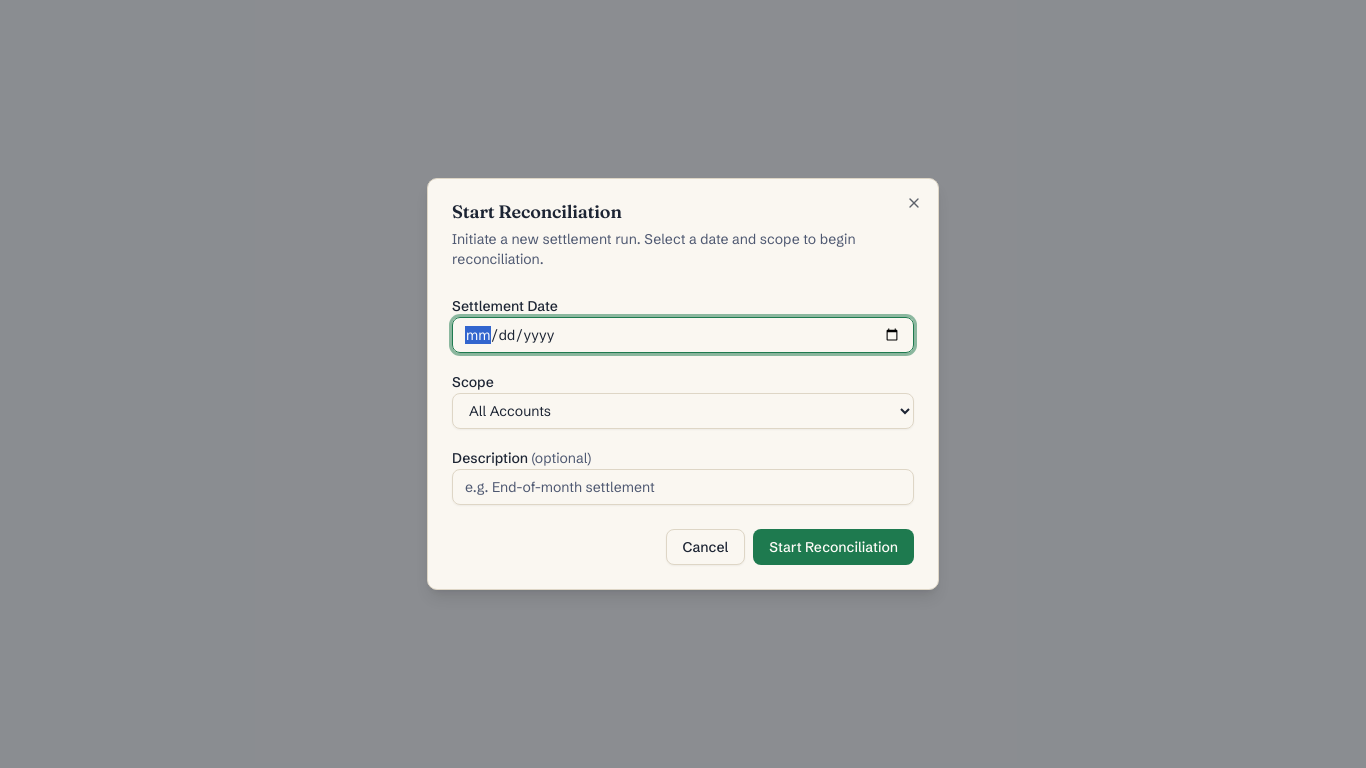
Test: InitiateReconciliationDialog › scope selection and conditional account ID › shows account ID input when scope changes to SELECTED_ACCOUNTS
Select "Selected Accounts" in the dropdown labelled "Scope": (683, 411) [452,393,914,429]
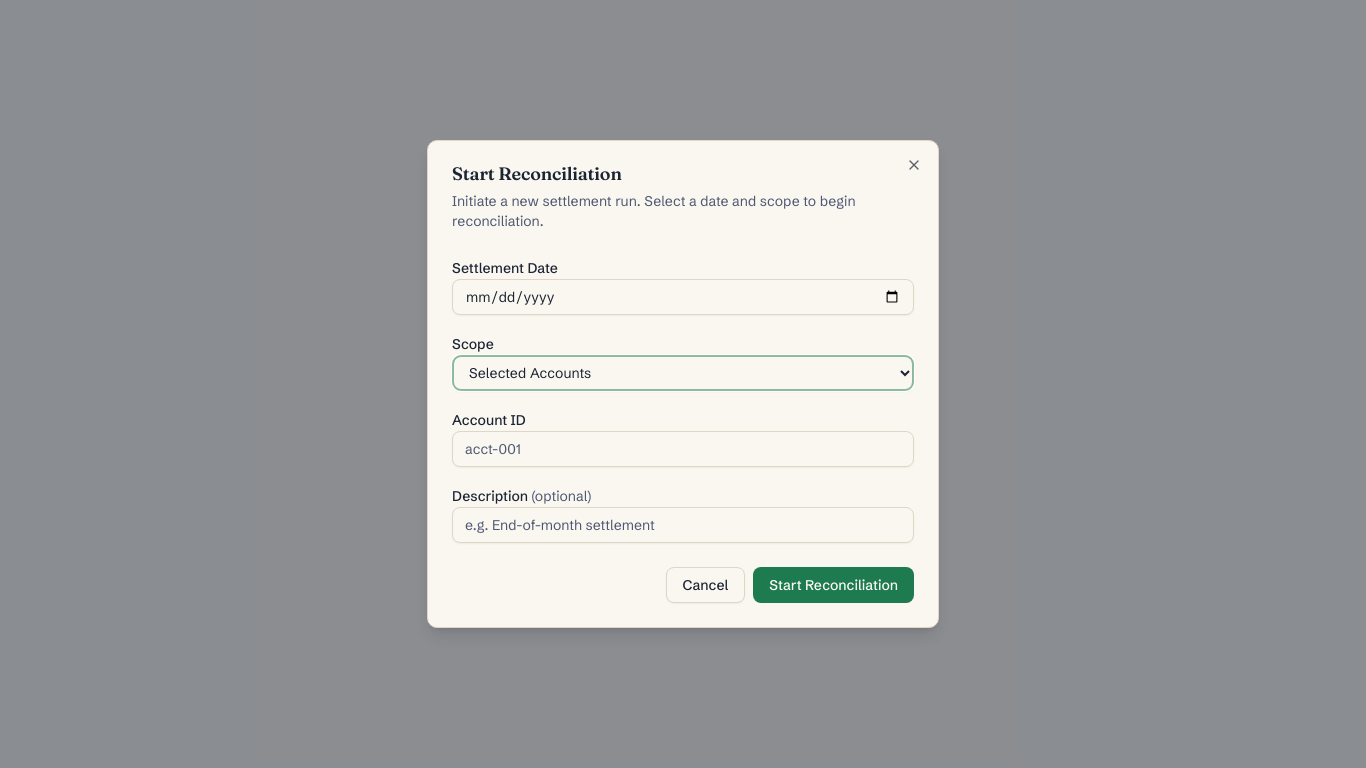
Check: the field labelled "Account ID" is shown, box [452,431,914,467]
